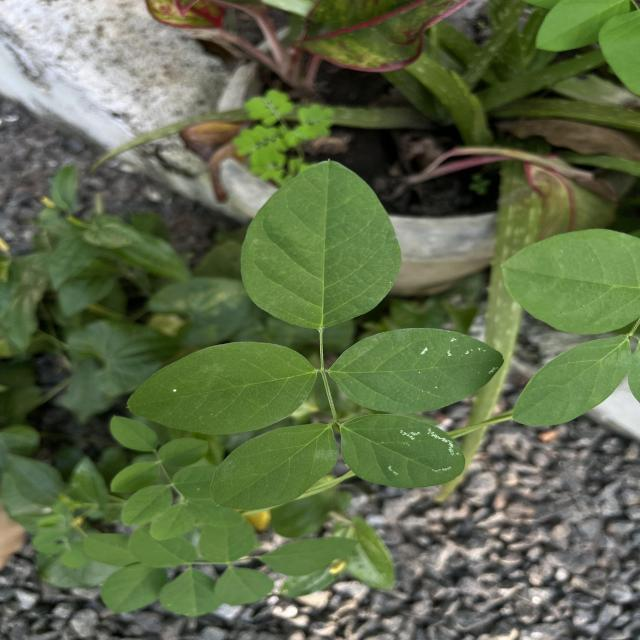Clitoria ternatea: (237, 157, 403, 330), (126, 340, 320, 436), (328, 326, 506, 416), (209, 422, 340, 511), (339, 413, 466, 489)
